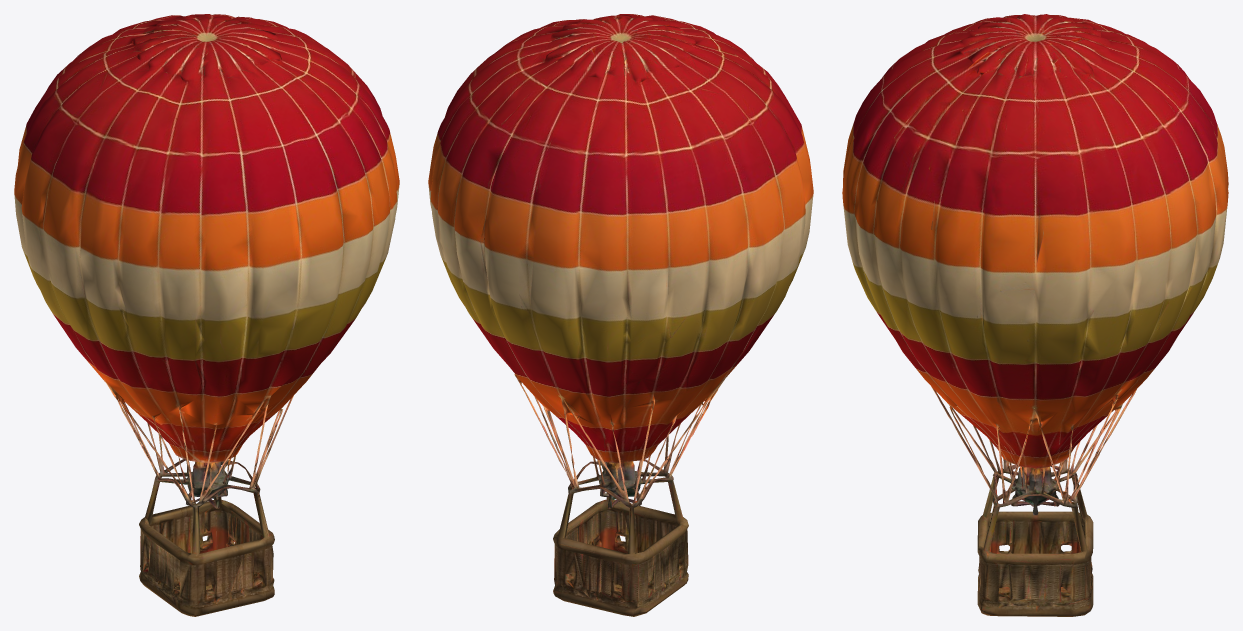
File: kit_hot_air_balloon.glb
The picture shows the model from 3 angles, left to right: view 1: azimuth 30°, elevation 25°; view 2: azimuth 150°, elevation 25°; view 3: azimuth 270°, elevation 25°; orthographic projection.
Visible parts, largest first — view 1: Mesh1.0; view 2: Mesh1.0; view 3: Mesh1.0.
Part boxes in pixels (<box>): Mesh1.0: <box>14,14,399,616</box>; Mesh1.0: <box>428,14,813,616</box>; Mesh1.0: <box>842,14,1228,616</box>.
Size of the model in its own units: 3.74 by 6 by 3.75.
1 material, 1 textured.
